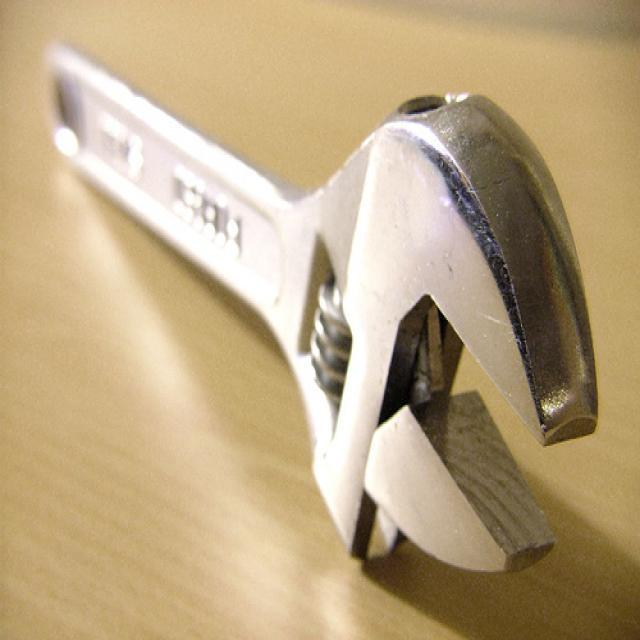wrench: (36, 33, 604, 587)
